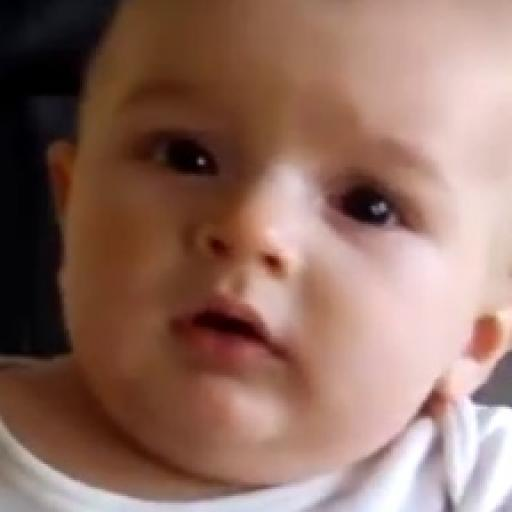Autism: (56, 26, 512, 466)
